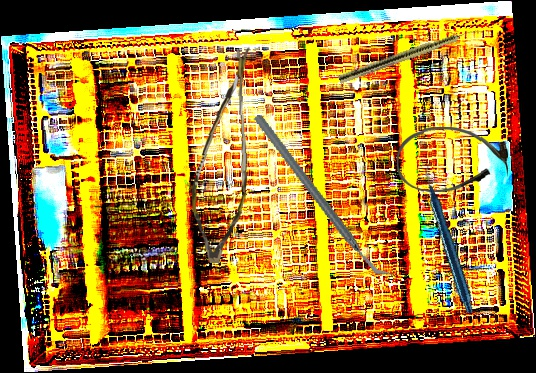Cannula: (396, 126, 509, 193)
Chopper: (251, 92, 394, 301)
Handpiece: (385, 162, 516, 315), (337, 23, 485, 86)
Micro Scissor: (183, 43, 262, 265)
